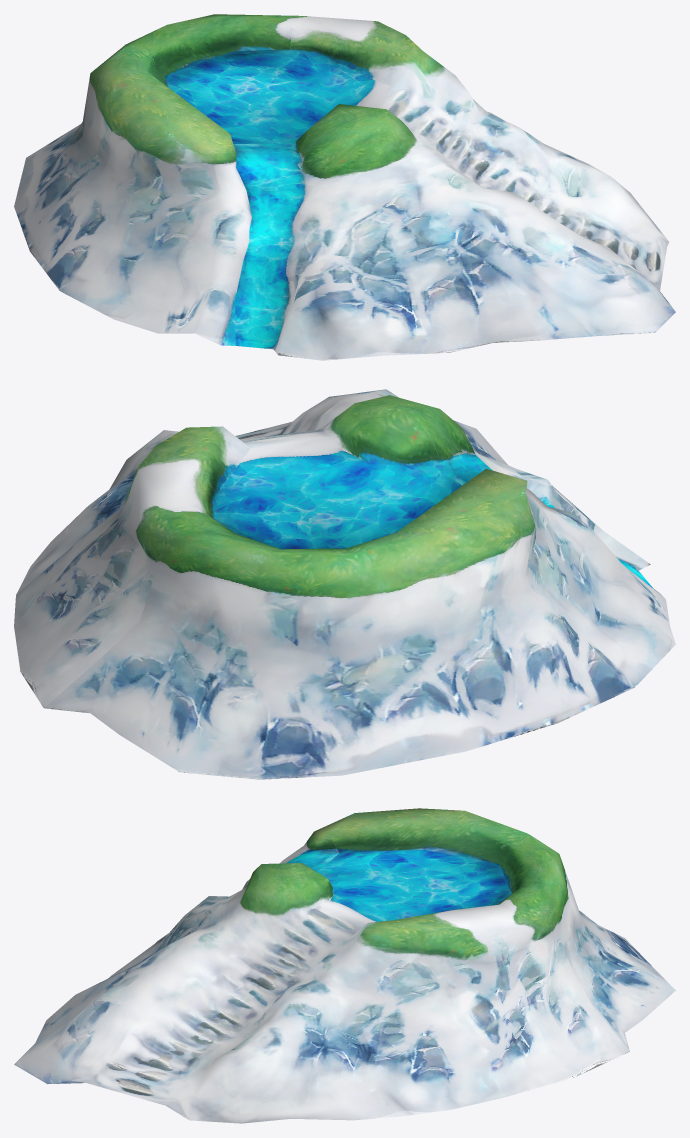
Rendered from SM_mountain_01.fbx.
The picture shows the model from 3 angles, top to bottom: view 1: azimuth 30°, elevation 25°; view 2: azimuth 150°, elevation 25°; view 3: azimuth 270°, elevation 25°; orthographic projection. The views are drawn at different scales.
Parts seen in each view (by area): view 1: SM_mountain_01; view 2: SM_mountain_01; view 3: SM_mountain_01.
Part boxes in pixels (left/top/right/bottom): SM_mountain_01: left=14, top=14, right=675, bottom=360; SM_mountain_01: left=14, top=389, right=675, bottom=779; SM_mountain_01: left=14, top=808, right=675, bottom=1123.
Bounding box in the file's own units: 25.28 × 7.46 × 31.12.
